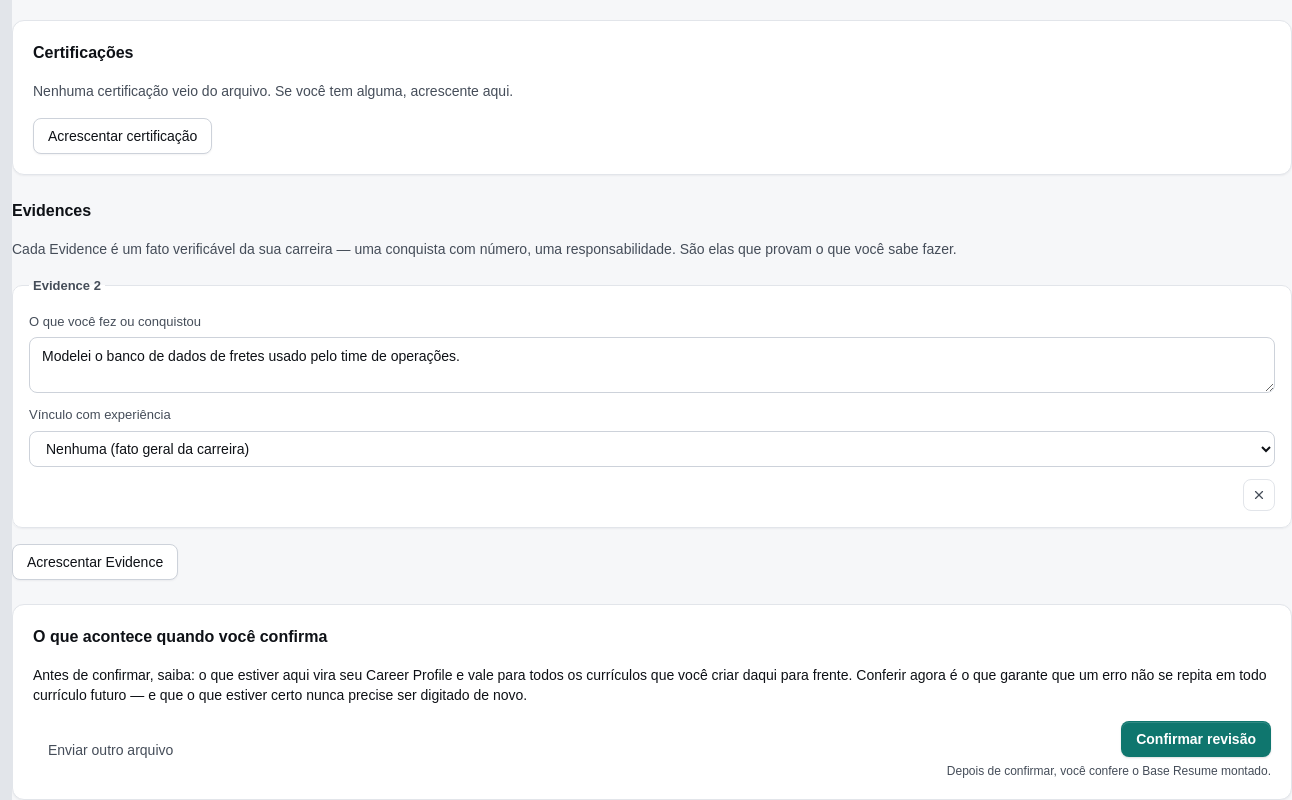
Test: ReviewScreen › should show its own message when the confirmation fails and let the person try again
This screenshot has width=1292, height=800.
(page scrolled)
Click the button "Confirmar revisão".
click(1196, 738)  # box [1121, 720, 1271, 756]
(page scrolled)
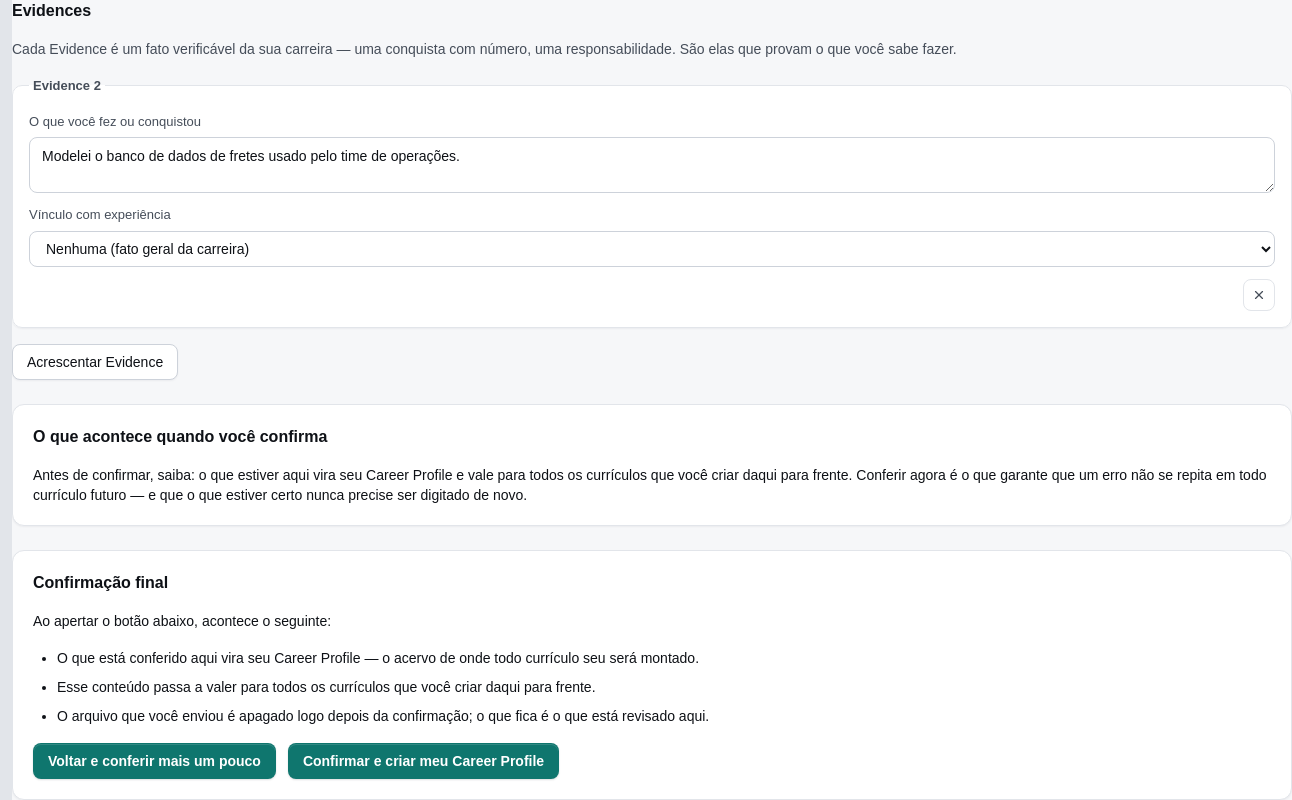
Click the button "Confirmar e criar meu Career Profile".
click(424, 760)  # box [288, 742, 559, 778]
(page scrolled)
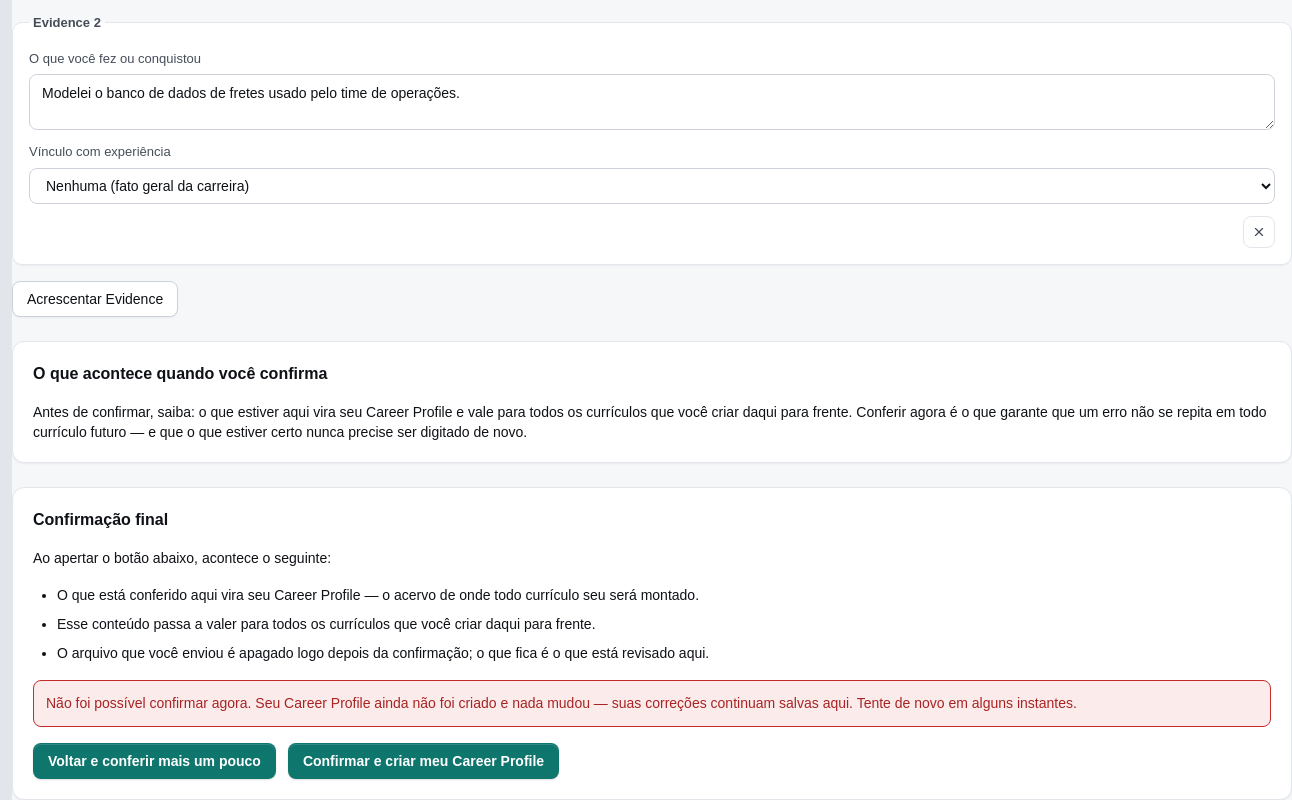
Result: the button "Confirmar e criar meu Career Profile" is enabled at [288, 742, 559, 778]
Result: the message shows "Não foi possível confirmar agora" at [46, 694, 1077, 710]
